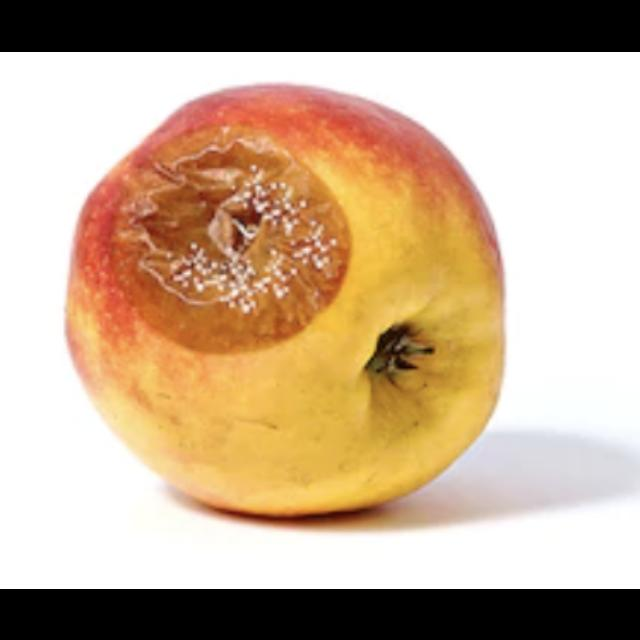Apel Tidak Segar: (47, 66, 539, 520)
